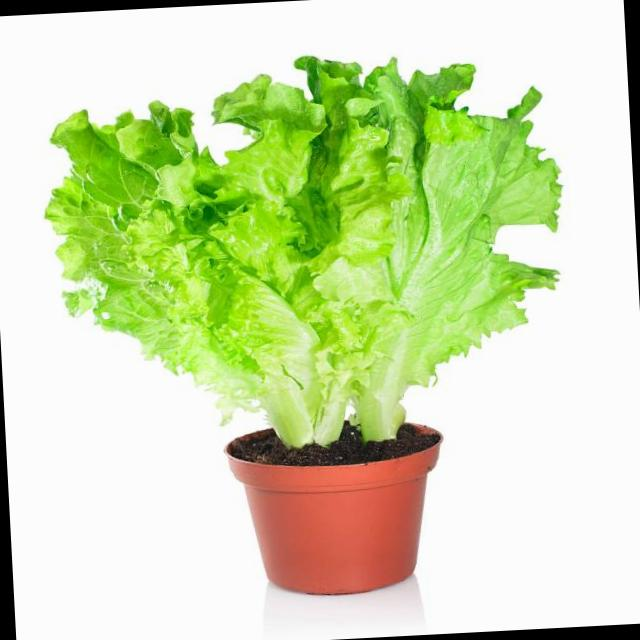Lettuce-Ready-to-Harvest: (47, 57, 560, 447)
